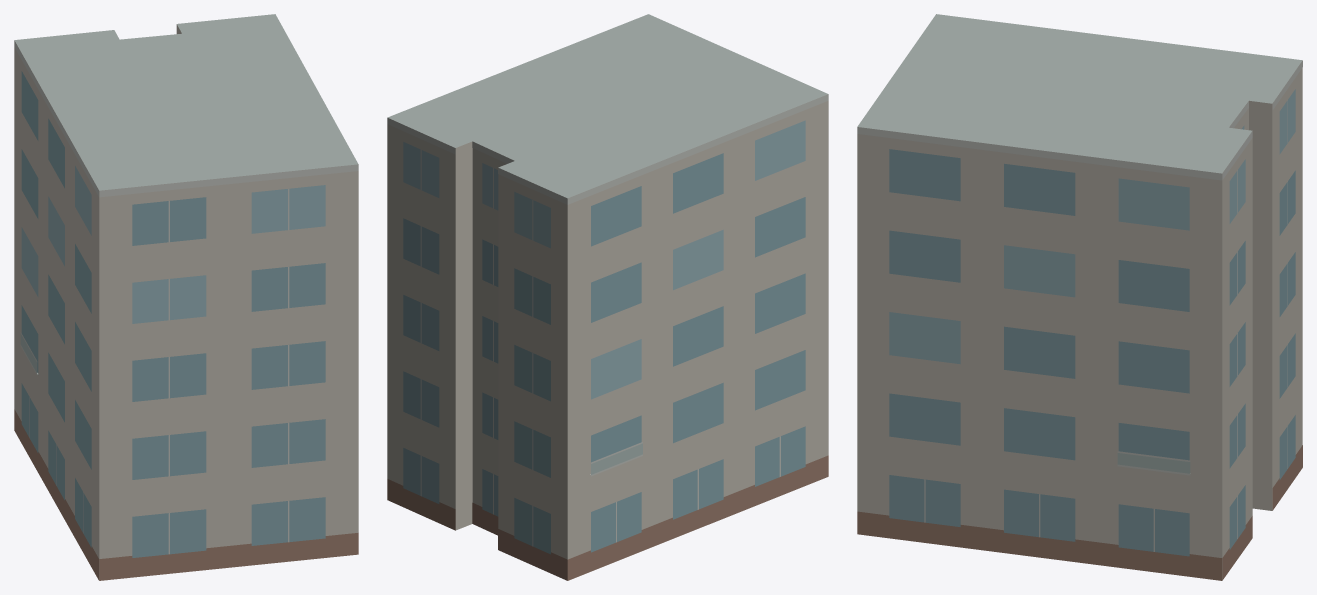
File: survey-upis-32913696.glb
3 renders of one model, left to right at view 1: azimuth 30°, elevation 25°; view 2: azimuth 150°, elevation 25°; view 3: azimuth 270°, elevation 25°, orthographic. The views are drawn at different scales.
Visible parts, largest first — view 1: survey-upis-32913696.tmp; view 2: survey-upis-32913696.tmp; view 3: survey-upis-32913696.tmp.
Part boxes in pixels (x1=…): survey-upis-32913696.tmp: x1=14, y1=14, x2=358, y2=580; survey-upis-32913696.tmp: x1=387, y1=14, x2=828, y2=580; survey-upis-32913696.tmp: x1=857, y1=14, x2=1302, y2=580.
Size of the model in its own units: 12.02 by 14.3 by 14.19.
